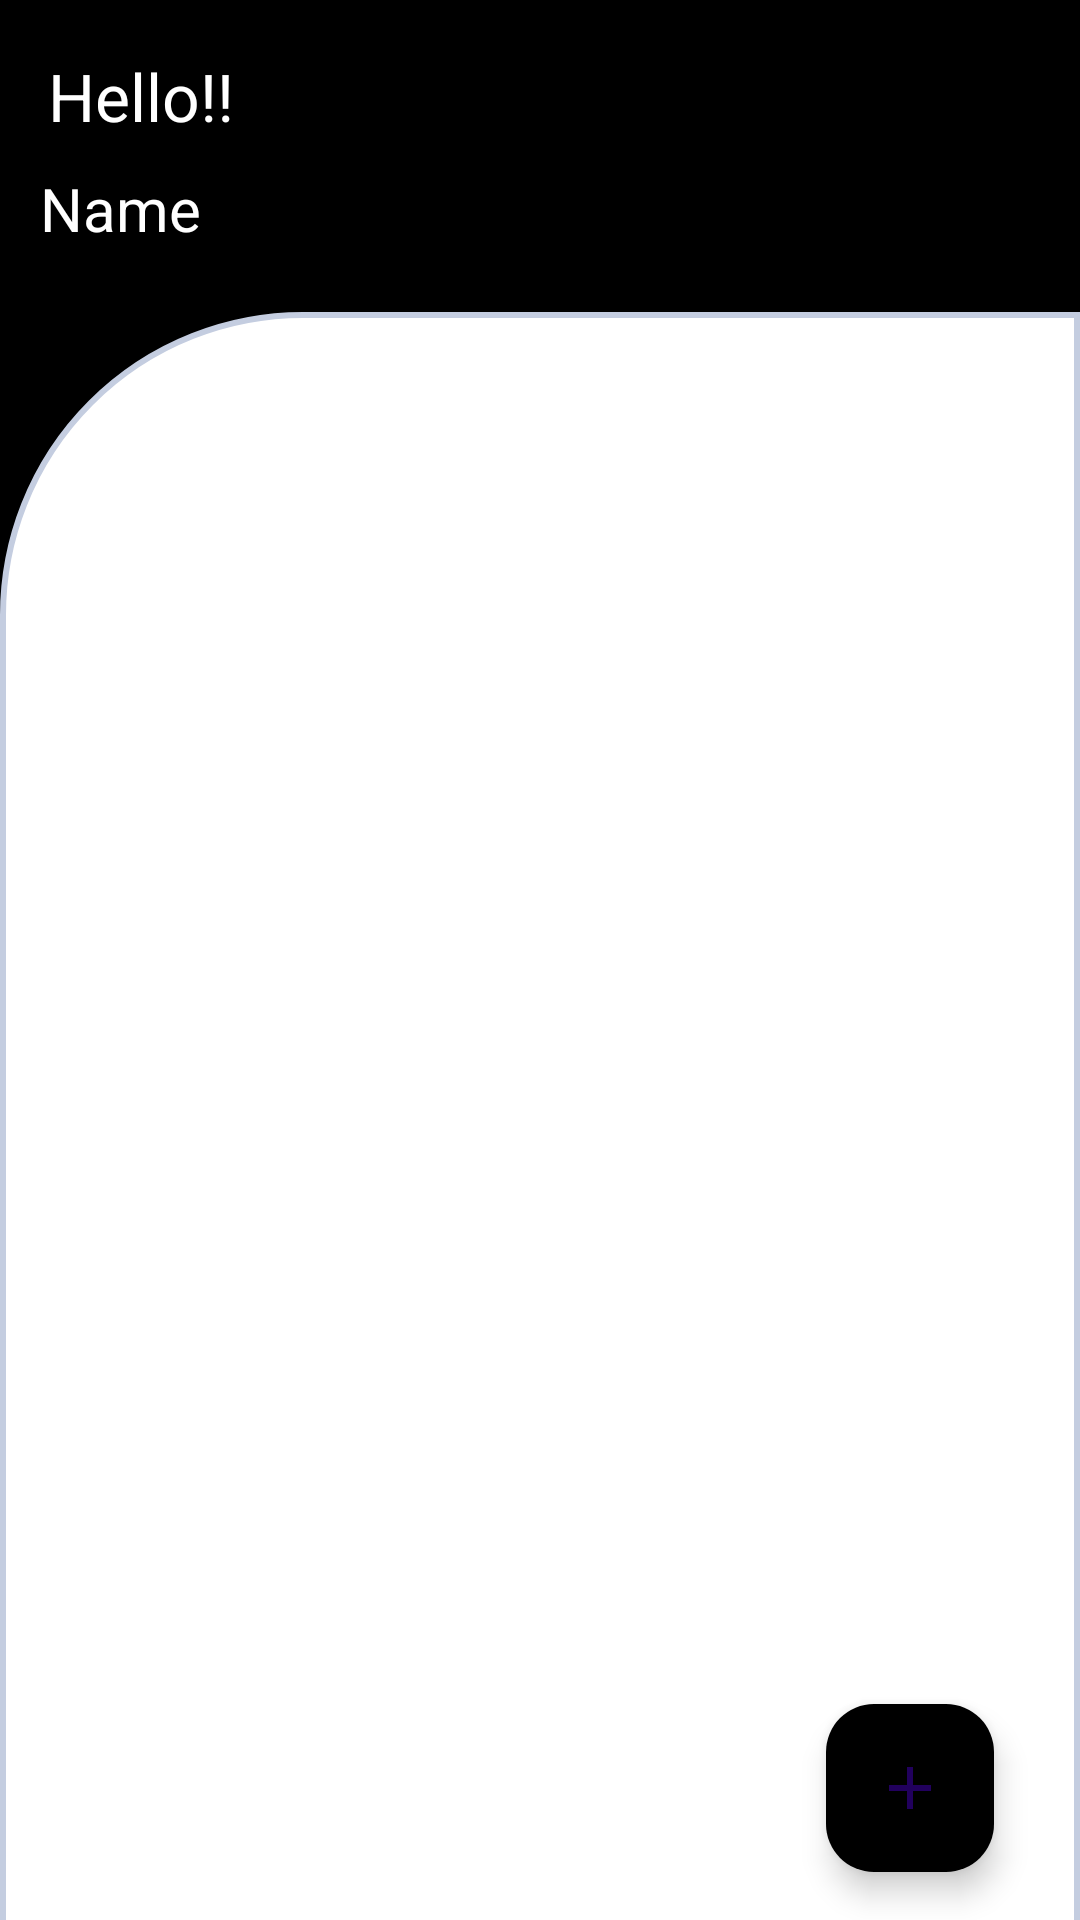

Icons on this 1080×1920 Android screen, each with its box as (x1, y1, x2, y2):
add: (826, 1704, 994, 1872)
